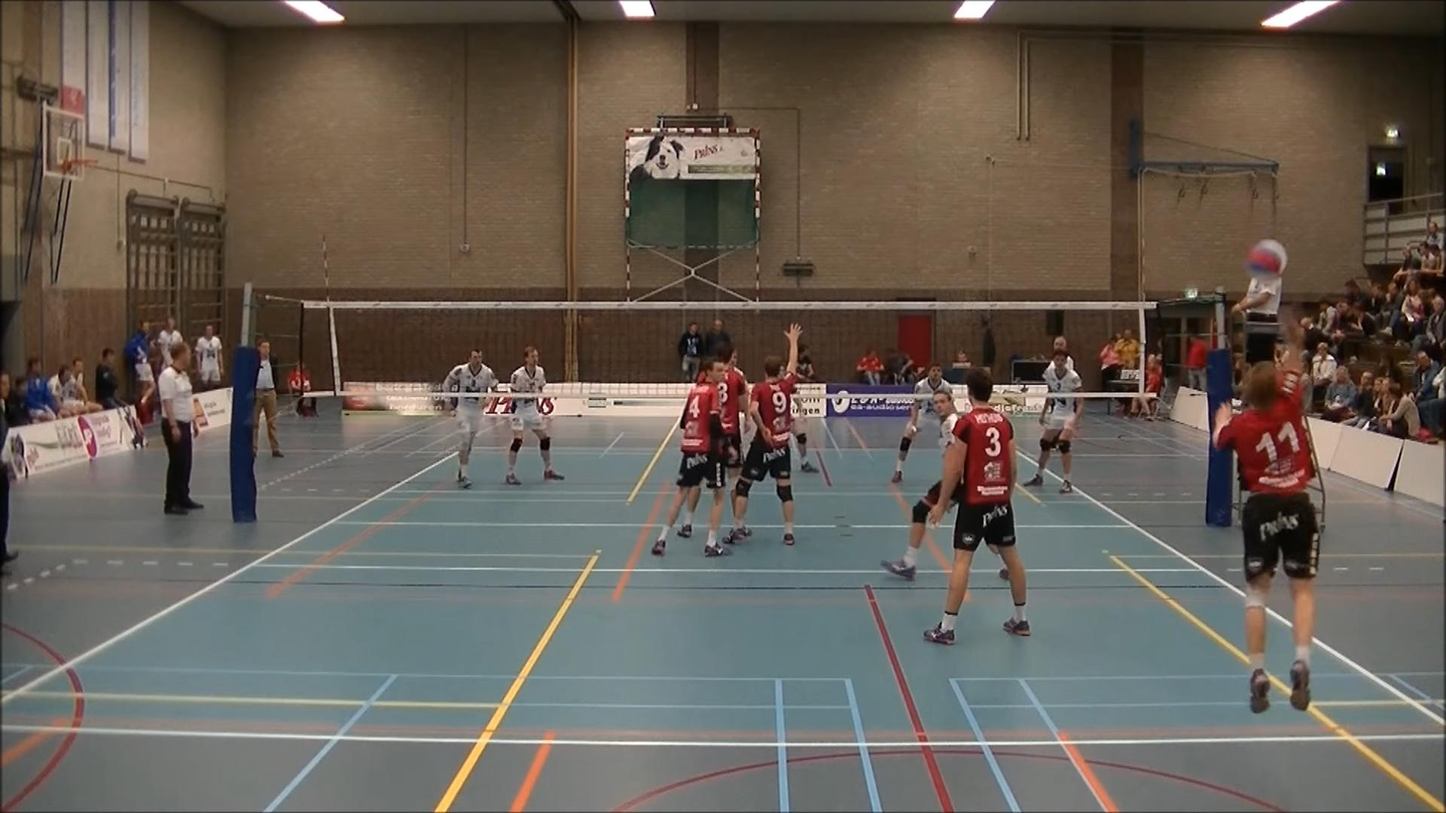Player: (924, 369, 1030, 644), (726, 324, 801, 545), (651, 360, 730, 556), (1023, 347, 1083, 492), (505, 346, 563, 485), (442, 349, 498, 488), (880, 481, 955, 580), (892, 363, 952, 483), (714, 346, 748, 473), (794, 416, 817, 472)
Serve: (1199, 302, 1343, 716)
ball: (1246, 241, 1290, 272)
